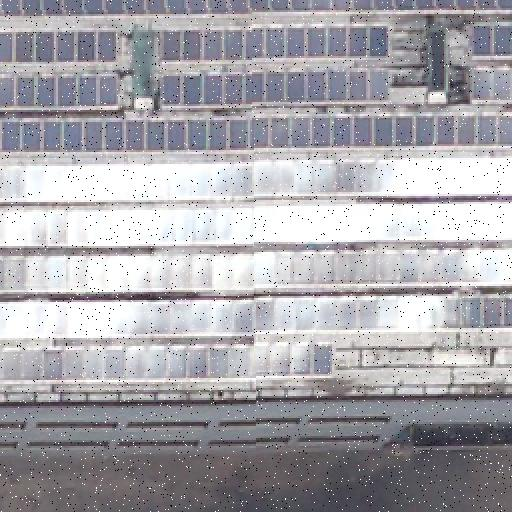solar-panel: (0, 155, 512, 205), (0, 201, 512, 247), (0, 292, 512, 336), (0, 246, 512, 290), (0, 113, 512, 151), (0, 341, 332, 379), (157, 69, 387, 107), (157, 25, 387, 63), (0, 0, 512, 16), (1, 73, 119, 111), (0, 31, 116, 65), (468, 67, 512, 101), (472, 23, 512, 57)
